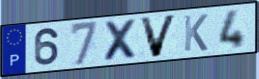4: (217, 8, 249, 50)
6: (33, 27, 61, 68)
7: (69, 19, 99, 68)
K: (183, 12, 210, 53)
V: (138, 13, 180, 59)
X: (103, 17, 141, 63)
